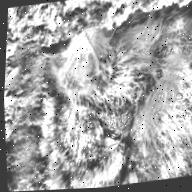boar: (17, 2, 192, 191)
